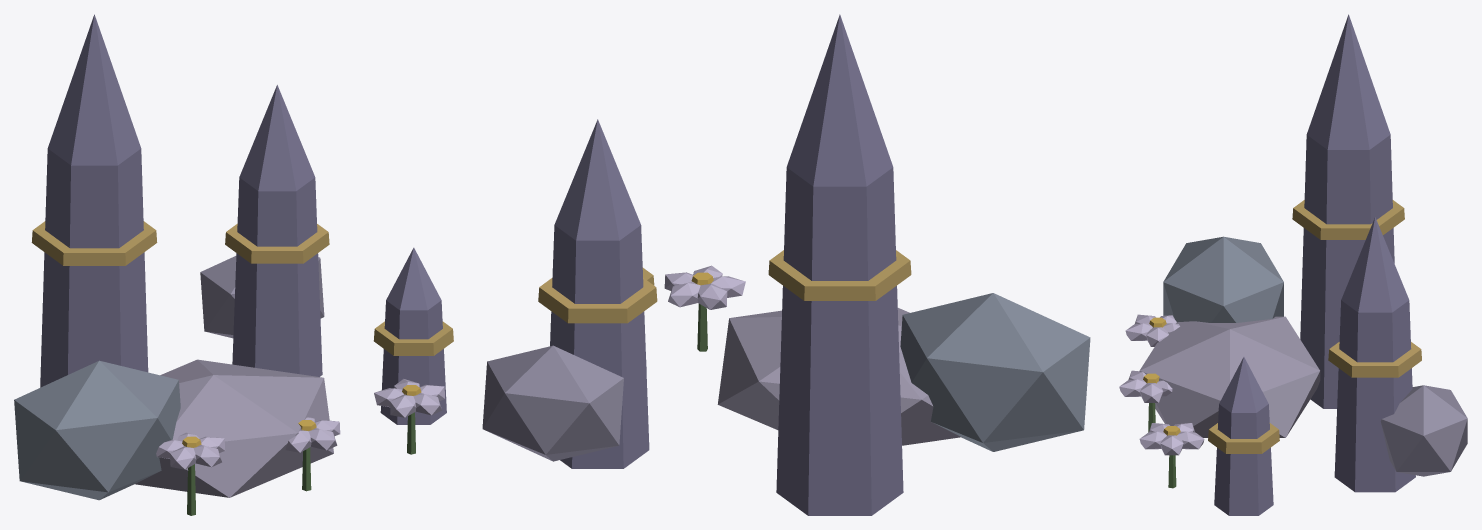
The model's file is xingyin-environment-v2__highland_star_garden.glb.
3 renders of one model, left to right at view 1: azimuth 30°, elevation 25°; view 2: azimuth 150°, elevation 25°; view 3: azimuth 270°, elevation 25°, orthographic. The views are drawn at different scales.
Visible parts, largest first — view 1: highland_star_garden; view 2: highland_star_garden; view 3: highland_star_garden.
Part boxes in pixels (box(x1,y1,x2,y2)): highland_star_garden: box(14, 14, 453, 515); highland_star_garden: box(482, 14, 1090, 515); highland_star_garden: box(1119, 14, 1467, 515).
Bounding box in the file's own units: 2.89 × 2.74 × 2.23.
